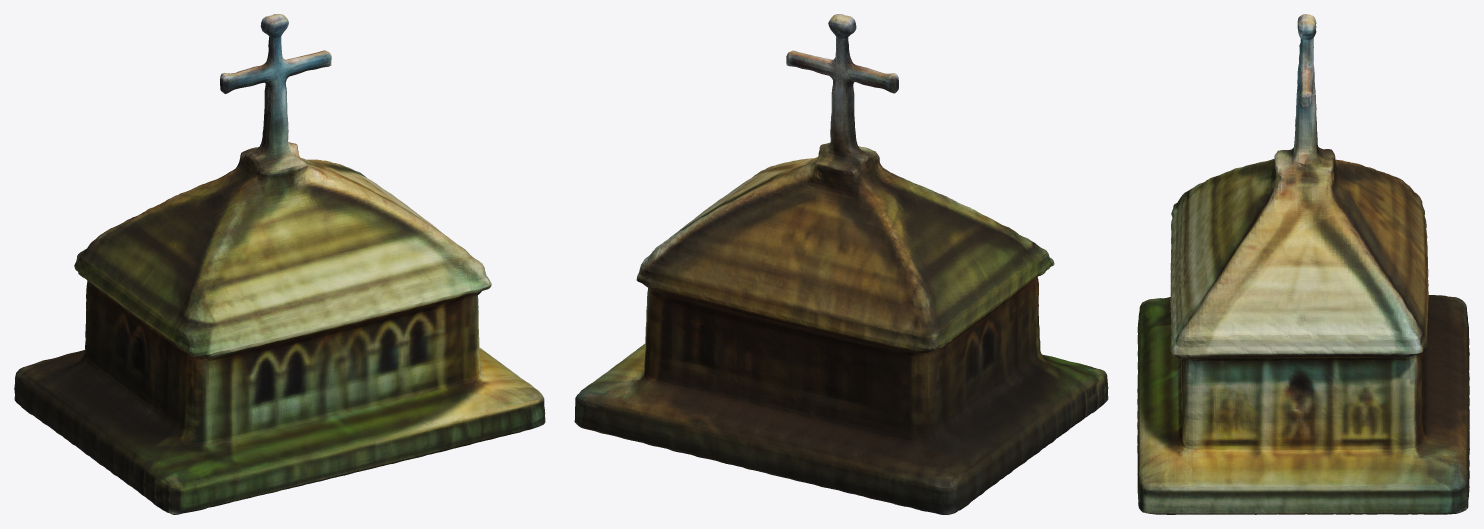
File: a wooden church with a cross on top.glb
The picture shows the model from 3 angles, left to right: view 1: azimuth 30°, elevation 25°; view 2: azimuth 150°, elevation 25°; view 3: azimuth 270°, elevation 25°; orthographic projection.
Size of the model in its own units: 0.9882 by 0.9926 by 0.7343.
1 material, 1 textured.
